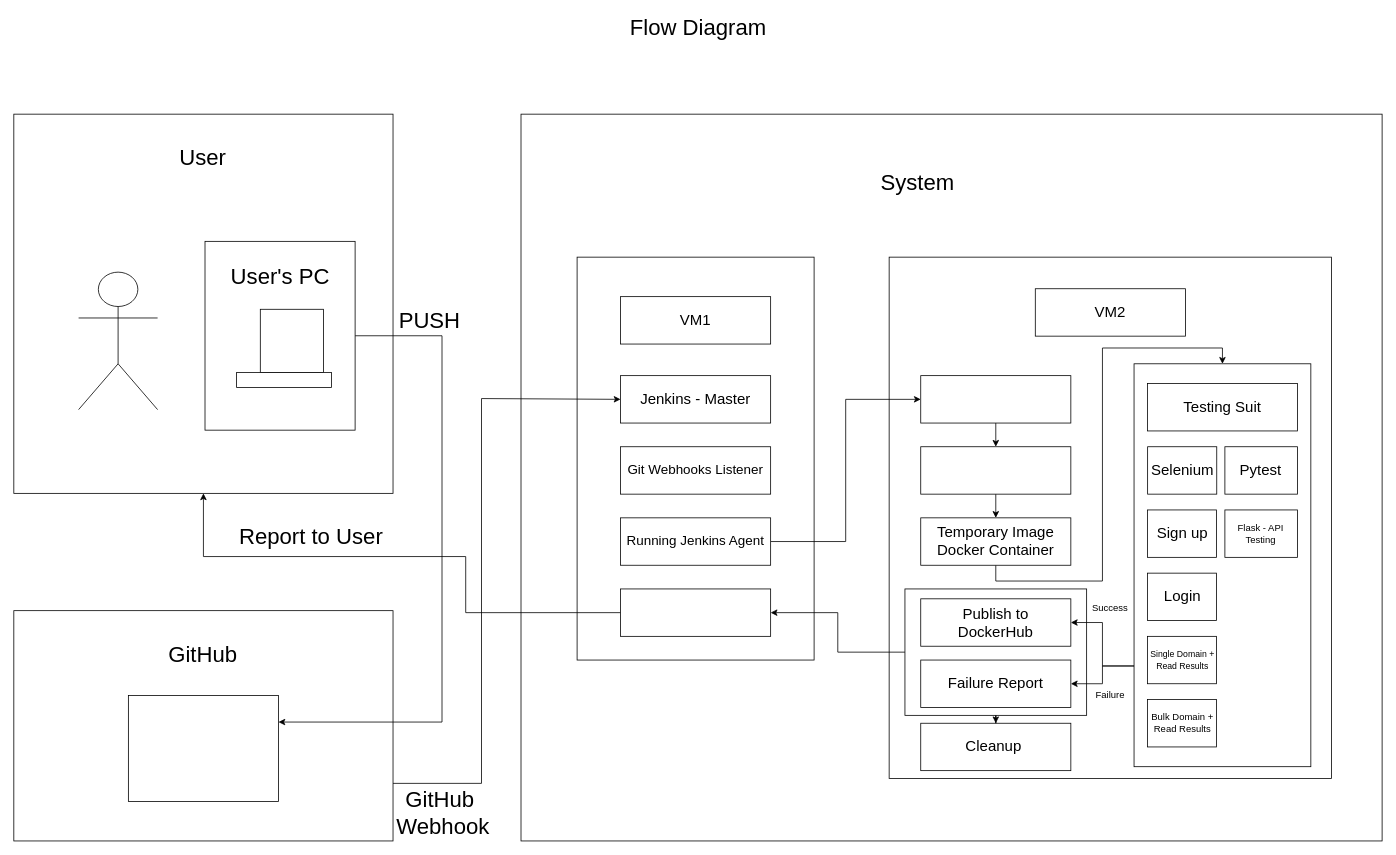
The diagram is 1396 pixels wide and 855 high, and some of its shapes have lost their labels. The centre of each missing label's shape, as x and y in pixels:
"Actor" goes at [118,340].
"Getting Report From Agent" goes at [695,612].
"Jenkins - Agent" goes at [995,399].
"Project Repo" goes at [203,748].
"Temporary Image Creation" goes at [995,470].
